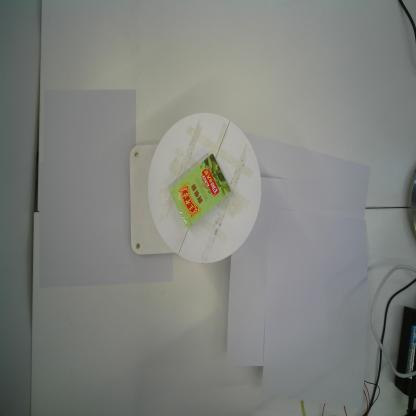Candy: (169, 153, 231, 230)
